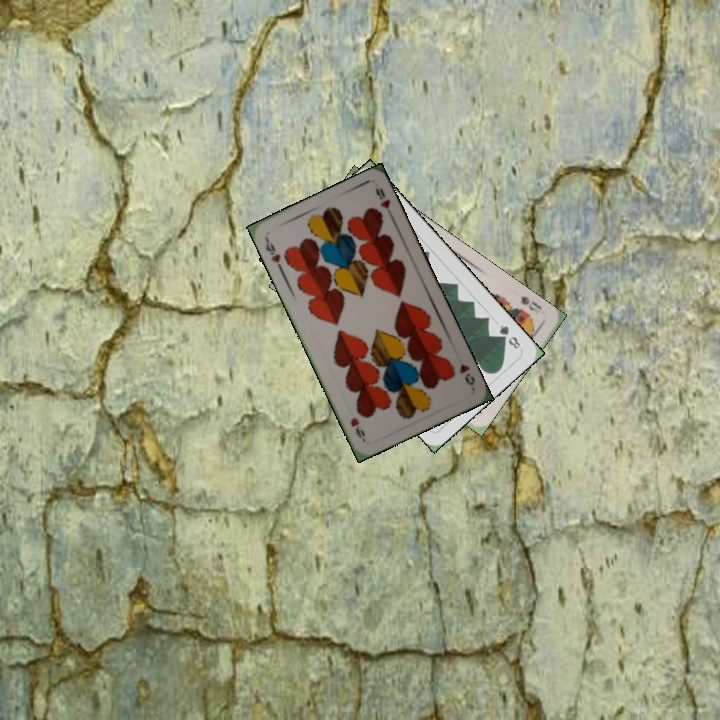G8: (495, 321, 523, 352)
H9: (261, 234, 283, 265), (456, 360, 478, 388)
S8: (517, 291, 545, 316)
